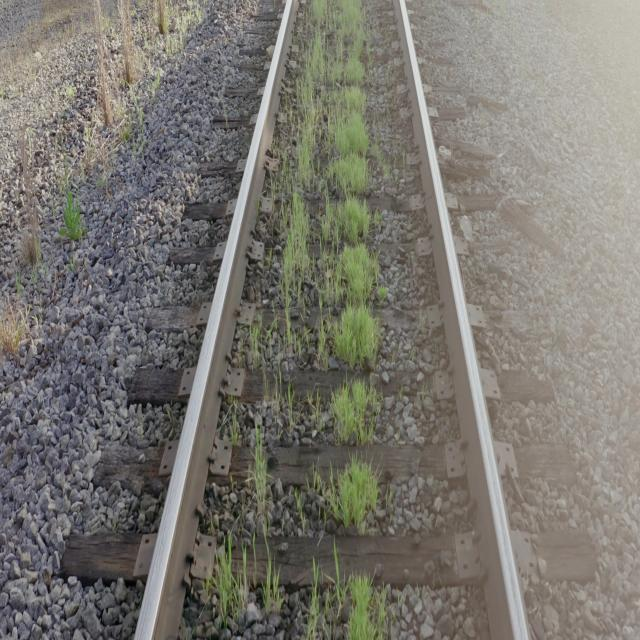Plant: (298, 0, 380, 371), (281, 189, 311, 322), (324, 460, 379, 531), (330, 576, 386, 640), (330, 378, 380, 444), (214, 536, 250, 624), (255, 429, 268, 511), (306, 562, 320, 638), (262, 567, 281, 616), (250, 327, 261, 340), (286, 324, 292, 342)
